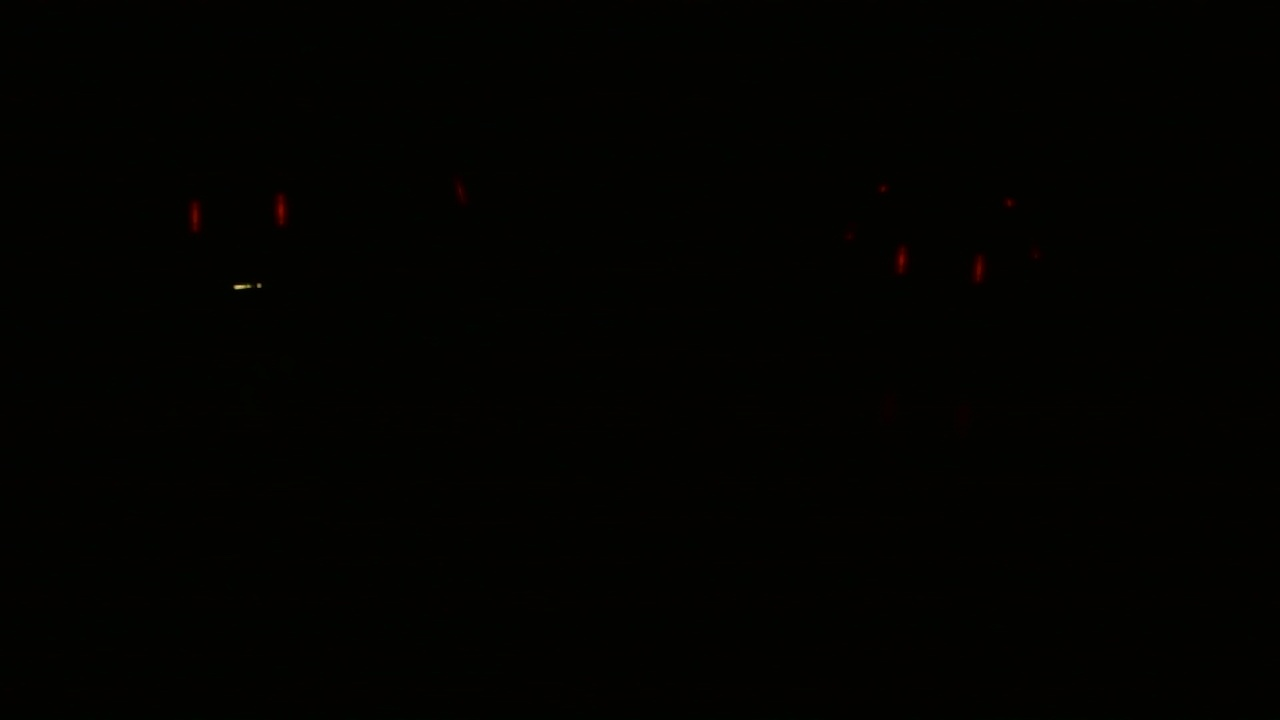pair1: (181, 189, 302, 248)
pair2: (892, 240, 994, 291)
